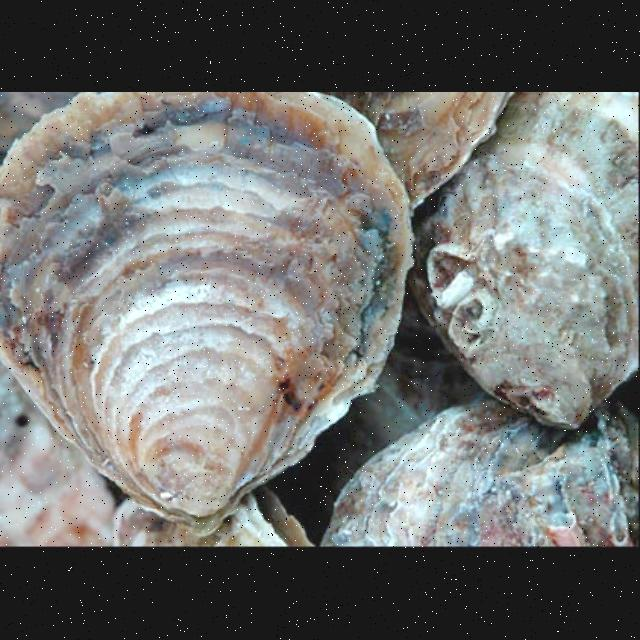Oyster-Closed: (0, 92, 417, 532), (405, 92, 640, 427), (322, 396, 640, 548), (322, 92, 515, 207), (0, 368, 117, 548), (379, 288, 483, 424), (0, 92, 82, 156)
Oyster-Open: (117, 488, 312, 548)
